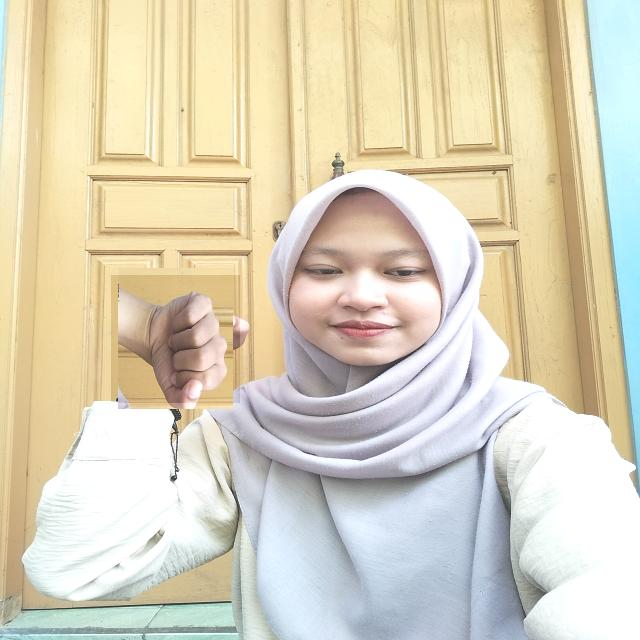baik: (111, 275, 240, 403)
